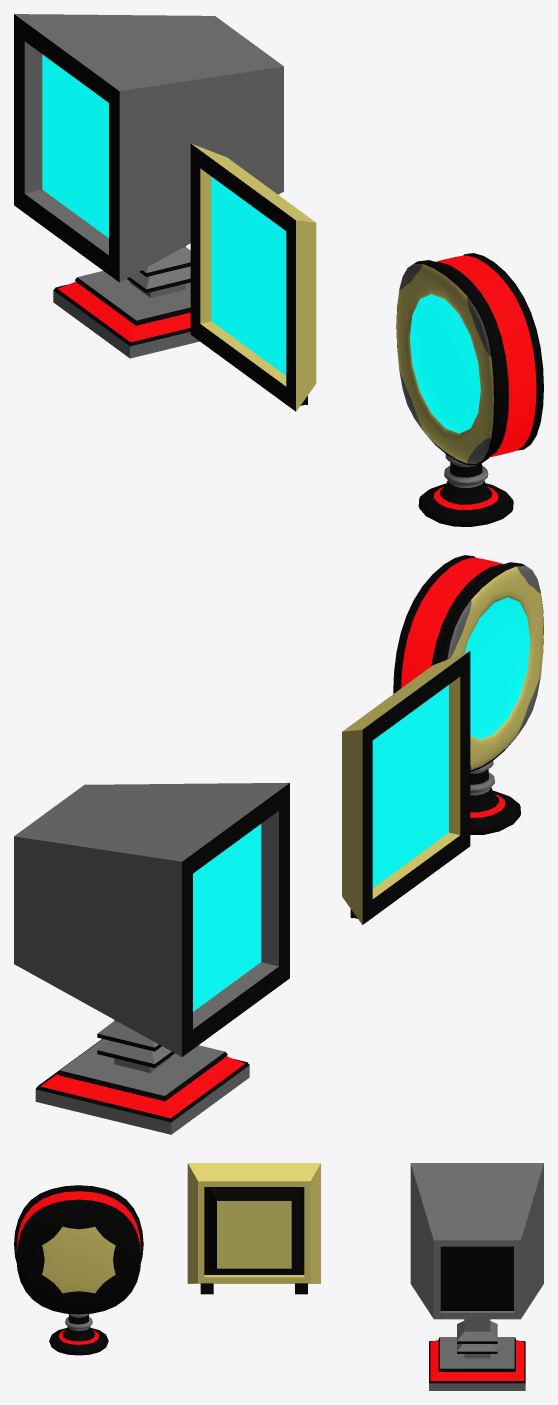
The model's file is Screens LowPoly.glb.
3 renders of one model, top to bottom at view 1: azimuth 30°, elevation 25°; view 2: azimuth 150°, elevation 25°; view 3: azimuth 270°, elevation 25°, orthographic. The views are drawn at different scales.
Parts seen in each view (by area): view 1: Cube, Cube.002, Cube.001; view 2: Cube, Cube.001, Cube.002; view 3: Cube, Cube.001, Cube.002.
Boxes of the visible parts, left/top/right/bottom form: Cube: left=14, top=14, right=283, bottom=358; Cube.002: left=396, top=253, right=543, bottom=526; Cube.001: left=190, top=143, right=316, bottom=411; Cube: left=14, top=782, right=289, bottom=1134; Cube.001: left=342, top=651, right=470, bottom=924; Cube.002: left=393, top=555, right=543, bottom=834; Cube: left=410, top=1163, right=543, bottom=1390; Cube.001: left=187, top=1163, right=320, bottom=1294; Cube.002: left=14, top=1185, right=143, bottom=1355.
Size of the model in its own units: 2 by 2.97 by 7.95.
